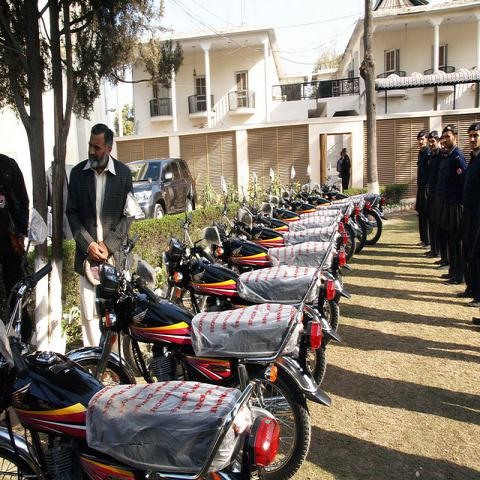car: (125, 158, 198, 219)
motorcycle: (0, 216, 281, 479), (57, 232, 328, 479), (161, 214, 352, 332), (206, 172, 350, 290), (261, 167, 357, 259), (231, 184, 349, 250), (278, 165, 360, 237), (248, 175, 344, 231), (321, 167, 386, 205), (333, 197, 372, 254), (362, 194, 386, 246)
